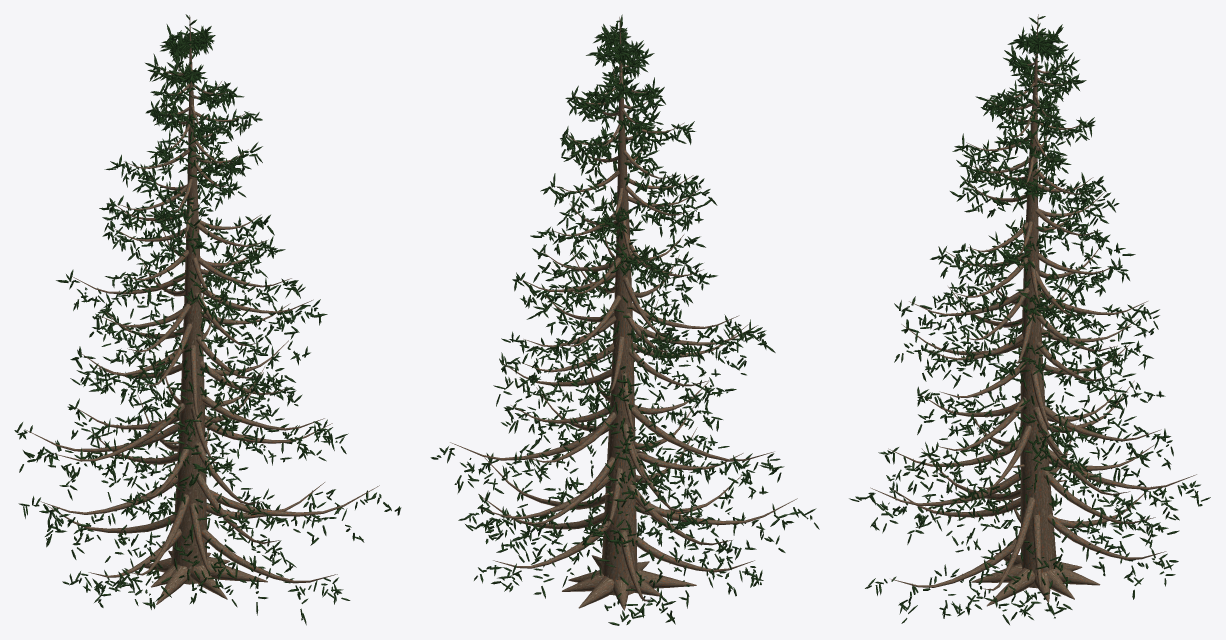
Rendered from spruce_mature_lod2.gltf.
3 renders of one model, left to right at view 1: azimuth 30°, elevation 25°; view 2: azimuth 150°, elevation 25°; view 3: azimuth 270°, elevation 25°, orthographic.
Visible parts, largest first — view 1: spruce_mature_lod2; view 2: spruce_mature_lod2; view 3: spruce_mature_lod2.
Boxes of the visible parts, x1,y1,x2,y2 form: spruce_mature_lod2: (14, 14, 401, 625); spruce_mature_lod2: (430, 14, 819, 625); spruce_mature_lod2: (849, 14, 1210, 624).
Bounding box in the file's own units: 6.25 × 10.19 × 5.81.
2 materials, 2 textured.
